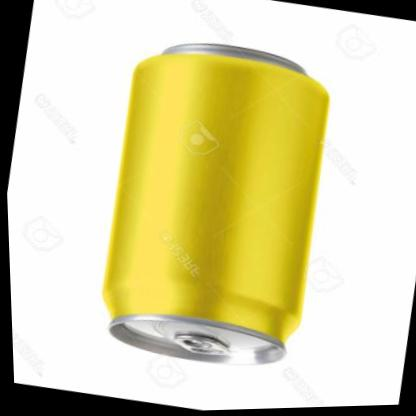metal: (104, 44, 328, 362)
